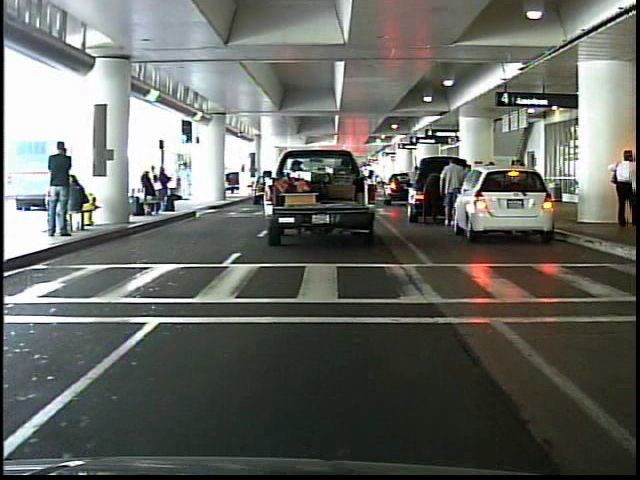person: (46, 137, 81, 240), (604, 148, 639, 235), (437, 154, 466, 229), (176, 160, 194, 202)
